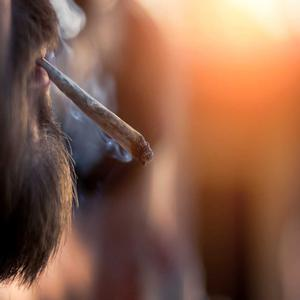cigarette: (35, 52, 158, 165)
